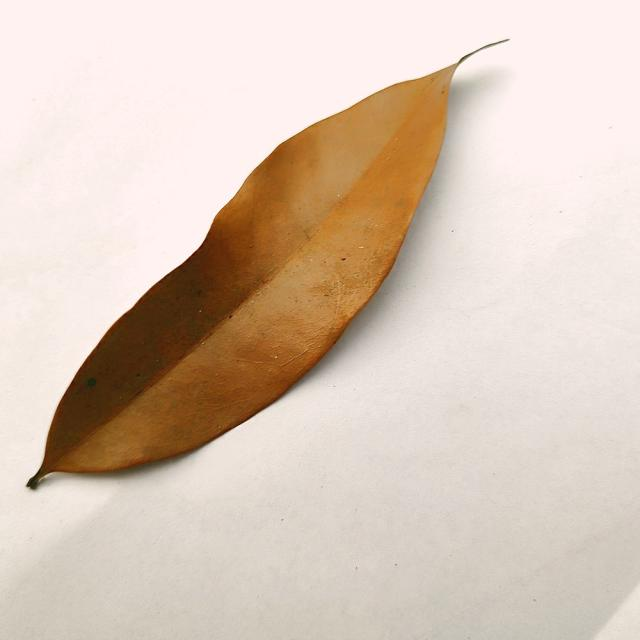Dry_Leaf-Lychee: (30, 56, 474, 489)
